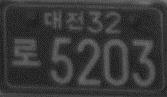0: (102, 38, 130, 86)
2: (76, 37, 101, 86), (104, 11, 122, 35)
3: (131, 38, 156, 88), (86, 10, 102, 33)
5: (50, 35, 74, 85)
대전_O: (42, 9, 85, 32)
로: (11, 35, 41, 67)
